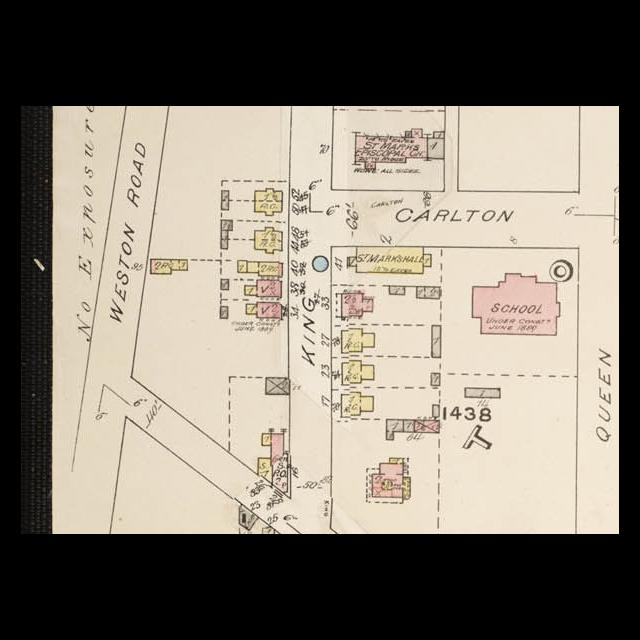building-footprints: (473, 274, 560, 334), (356, 129, 428, 169), (348, 247, 431, 274), (372, 458, 410, 499), (262, 434, 287, 493), (255, 189, 282, 216), (342, 392, 373, 415), (342, 329, 374, 351), (342, 361, 374, 383), (255, 227, 282, 253), (342, 294, 373, 316), (245, 280, 281, 297), (246, 302, 282, 318), (239, 502, 258, 530), (151, 259, 187, 273), (248, 262, 283, 276), (266, 378, 290, 394), (386, 419, 404, 440), (465, 388, 500, 398), (428, 138, 444, 159), (431, 325, 441, 358), (258, 458, 271, 483), (415, 420, 439, 433), (417, 287, 440, 299), (222, 190, 229, 210), (390, 286, 405, 295), (403, 420, 414, 432), (237, 260, 247, 273), (221, 220, 233, 230), (431, 373, 440, 386), (222, 231, 228, 249), (220, 307, 228, 319), (221, 280, 229, 290), (433, 405, 439, 417), (263, 528, 275, 534), (434, 132, 444, 138), (405, 131, 411, 136)
